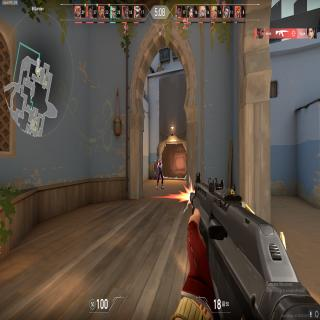ENEMY-BODY: (156, 158, 164, 190)
ENEMY-HEAD: (159, 159, 161, 164)
